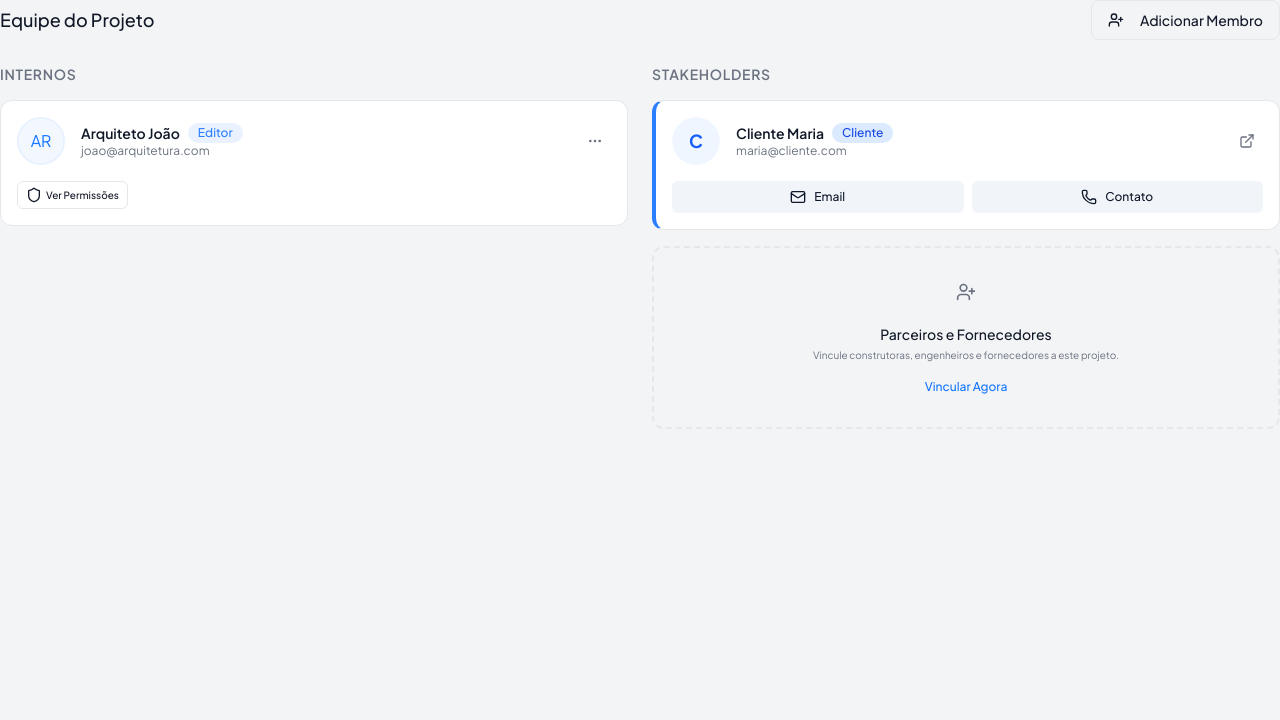
Test case: ProjectTeamTab Component › opens add member dialog and fetches users on click
Click the button "Adicionar Membro".
click(1186, 20)  # box [1091,0,1279,40]
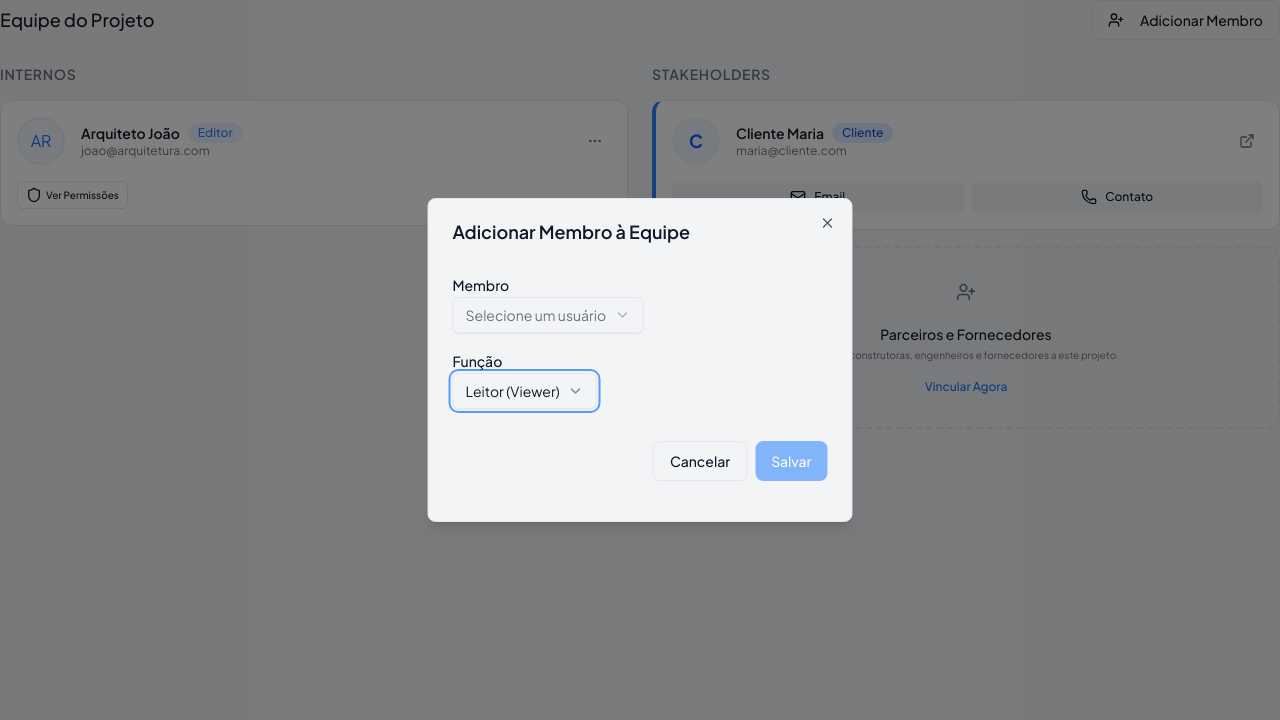
Check: the heading "Adicionar Membro à Equipe" is shown, box [452,220,690,243]
